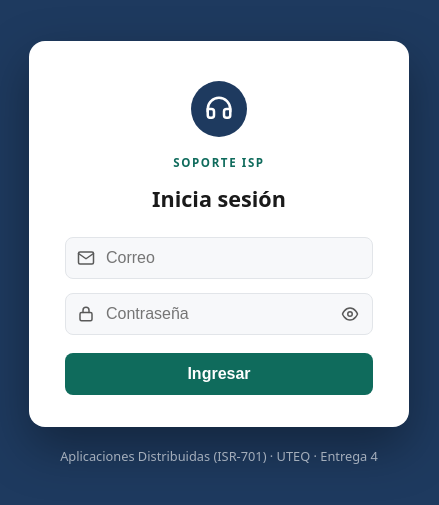
Test: LoginPage › muestra un error de validacion si se envia el formulario vacio
Click the button "Ingresar" at (219, 374), box [65, 353, 373, 395]
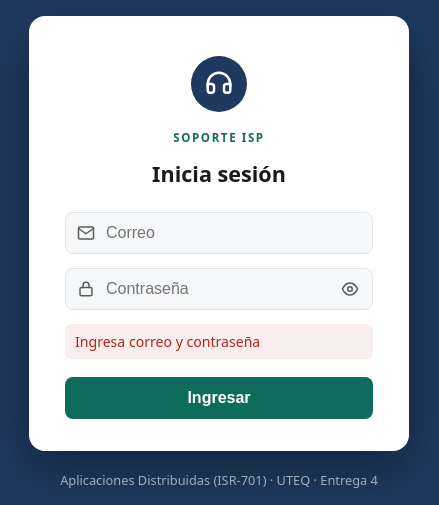
Expected: the text "Ingresa correo y contraseña" is shown, [65, 324, 373, 359]
